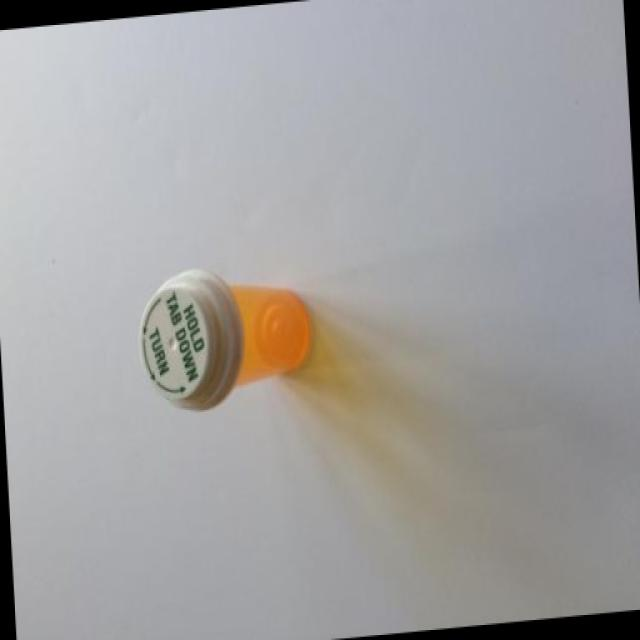plastico: (118, 247, 435, 476)
